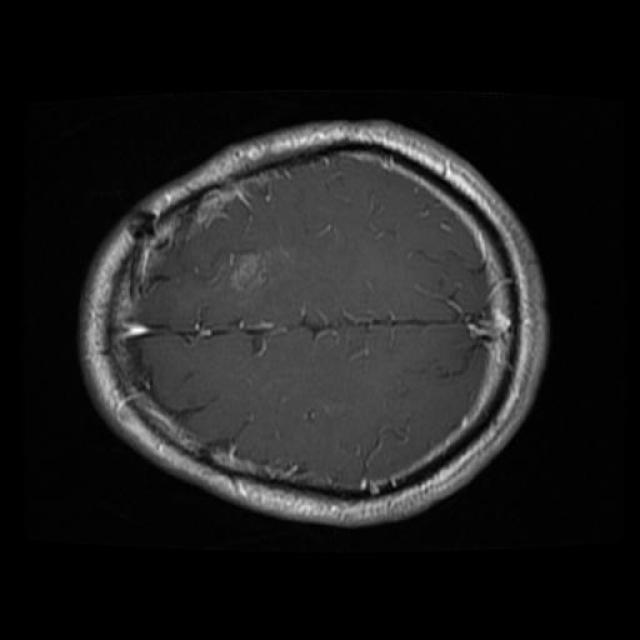Glioma: (209, 252, 271, 293)
